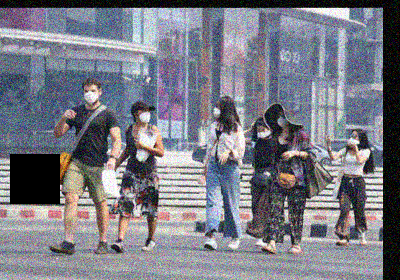with_mask: (84, 88, 100, 104), (138, 108, 152, 123), (277, 111, 290, 127), (257, 128, 270, 138), (350, 133, 360, 146), (214, 102, 222, 118)
